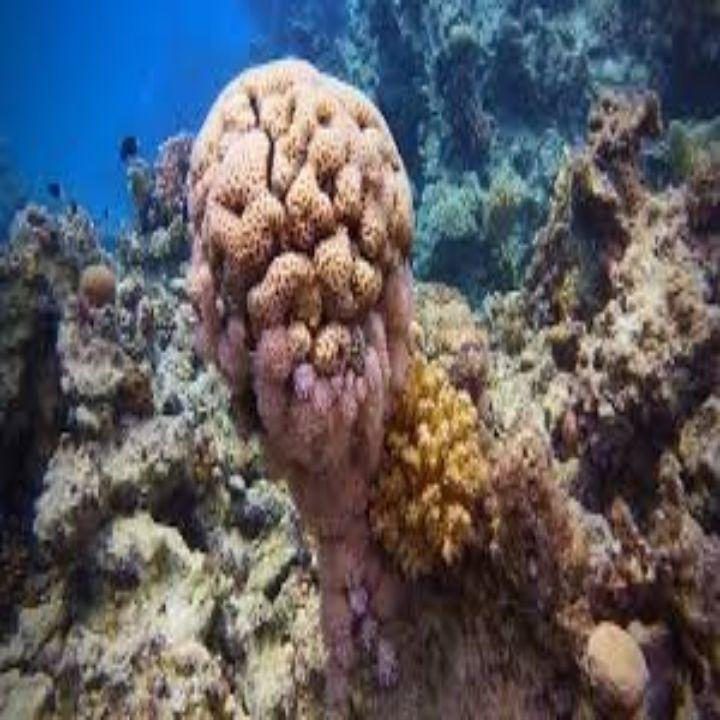Healthy Coral: (152, 52, 548, 594)
